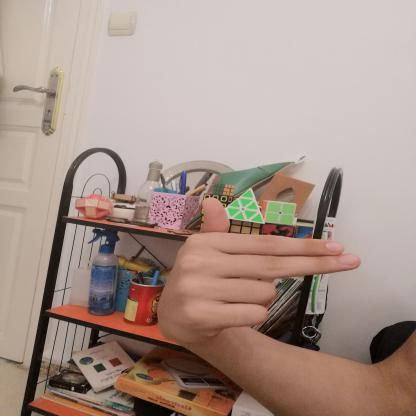GHAYN: (144, 190, 372, 352)
